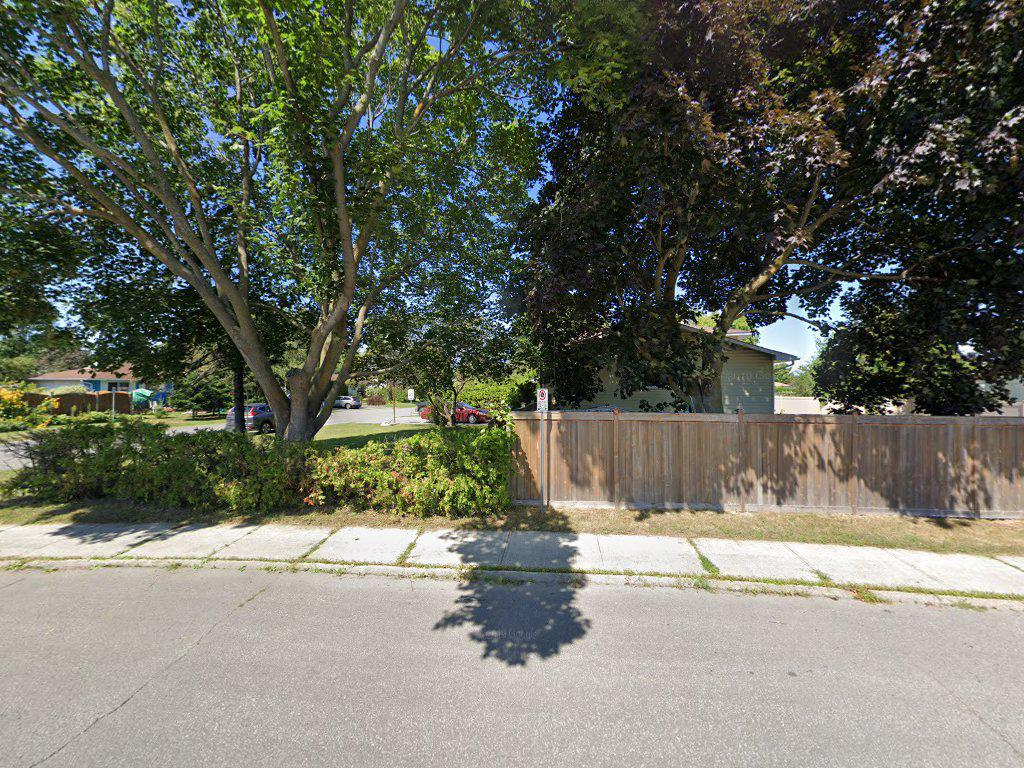trunk: (240, 330, 351, 461)
